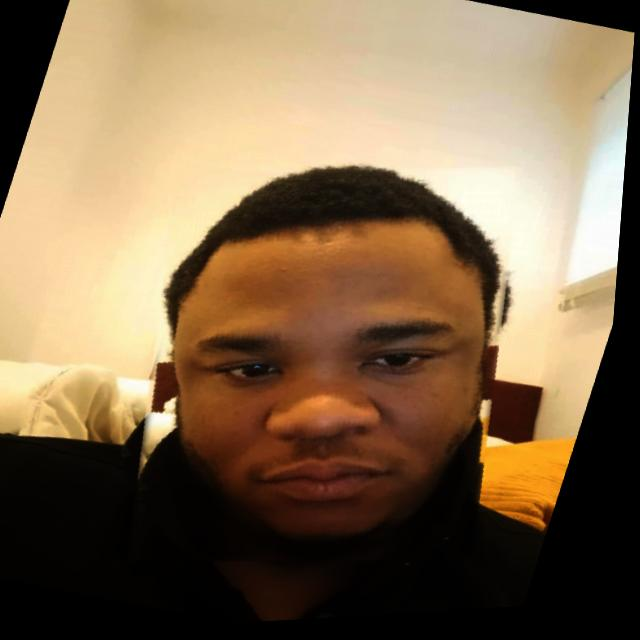sad: (78, 108, 580, 631)
